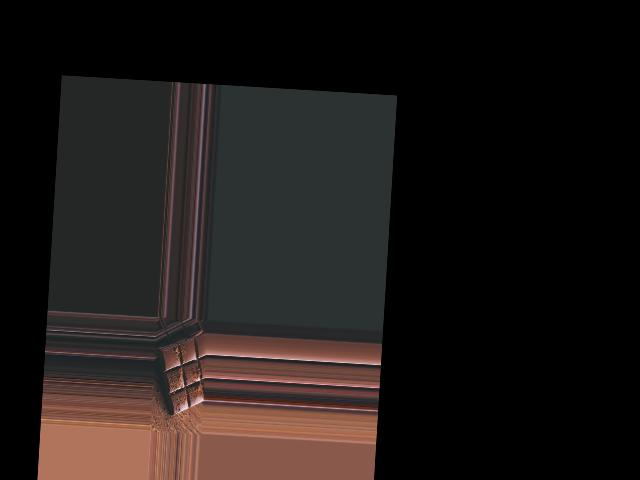chocolate: (155, 330, 207, 421)
